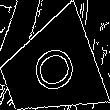O_W: (21, 41, 78, 100)
